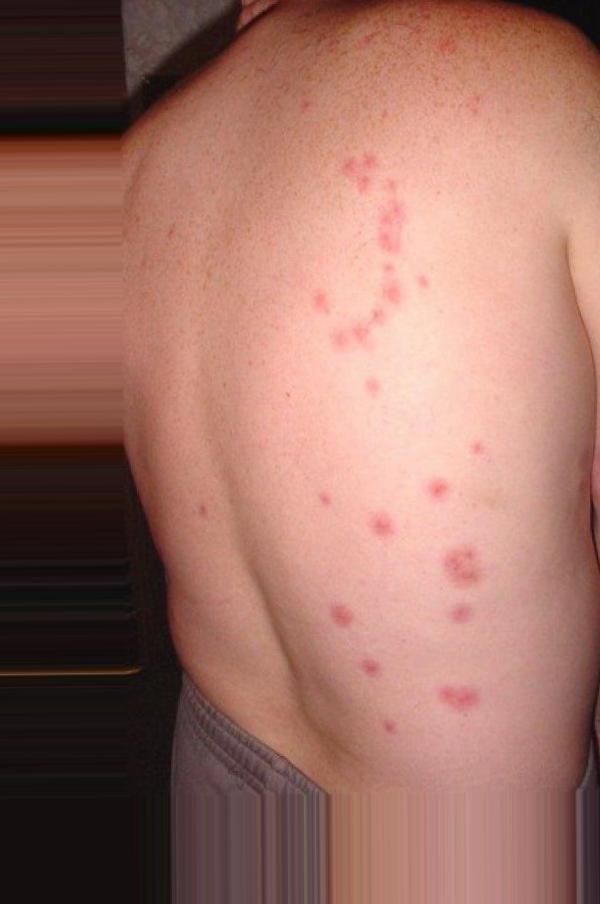Fleas: (337, 148, 388, 201), (437, 542, 486, 594), (373, 198, 406, 256), (418, 471, 456, 509), (330, 319, 379, 347), (444, 598, 477, 631), (439, 688, 479, 714), (380, 265, 403, 307), (460, 435, 492, 464), (366, 512, 395, 540), (329, 601, 355, 632), (309, 285, 331, 316), (358, 656, 381, 680), (191, 499, 214, 522), (366, 305, 387, 330), (313, 488, 333, 511), (361, 376, 381, 398), (412, 273, 430, 290), (380, 720, 399, 735)
